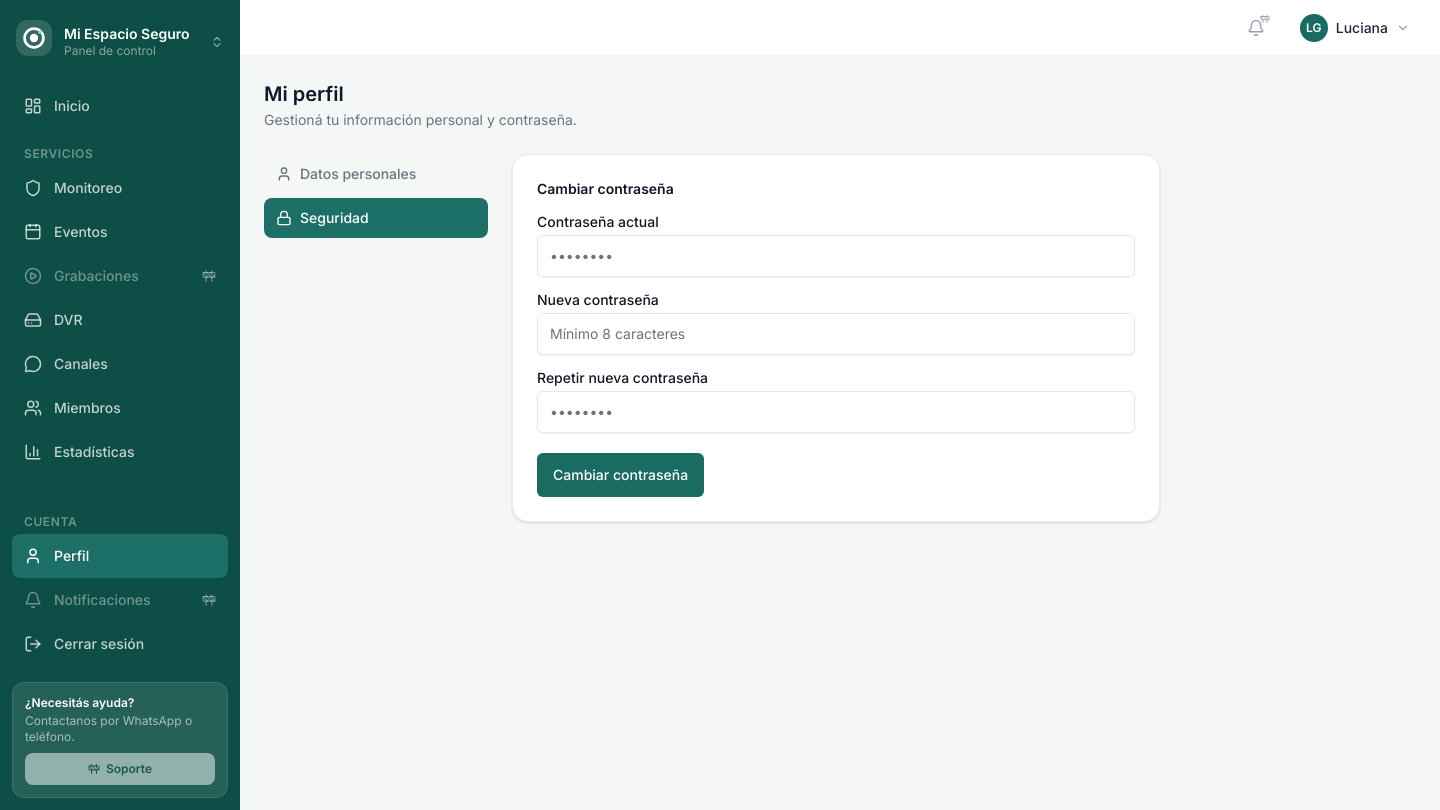
Test: ProfilePage › changes the password and stores the new token
Type "vieja12345" into the password field labelled "Contraseña actual" at [836, 256], box [537,235,1135,277]
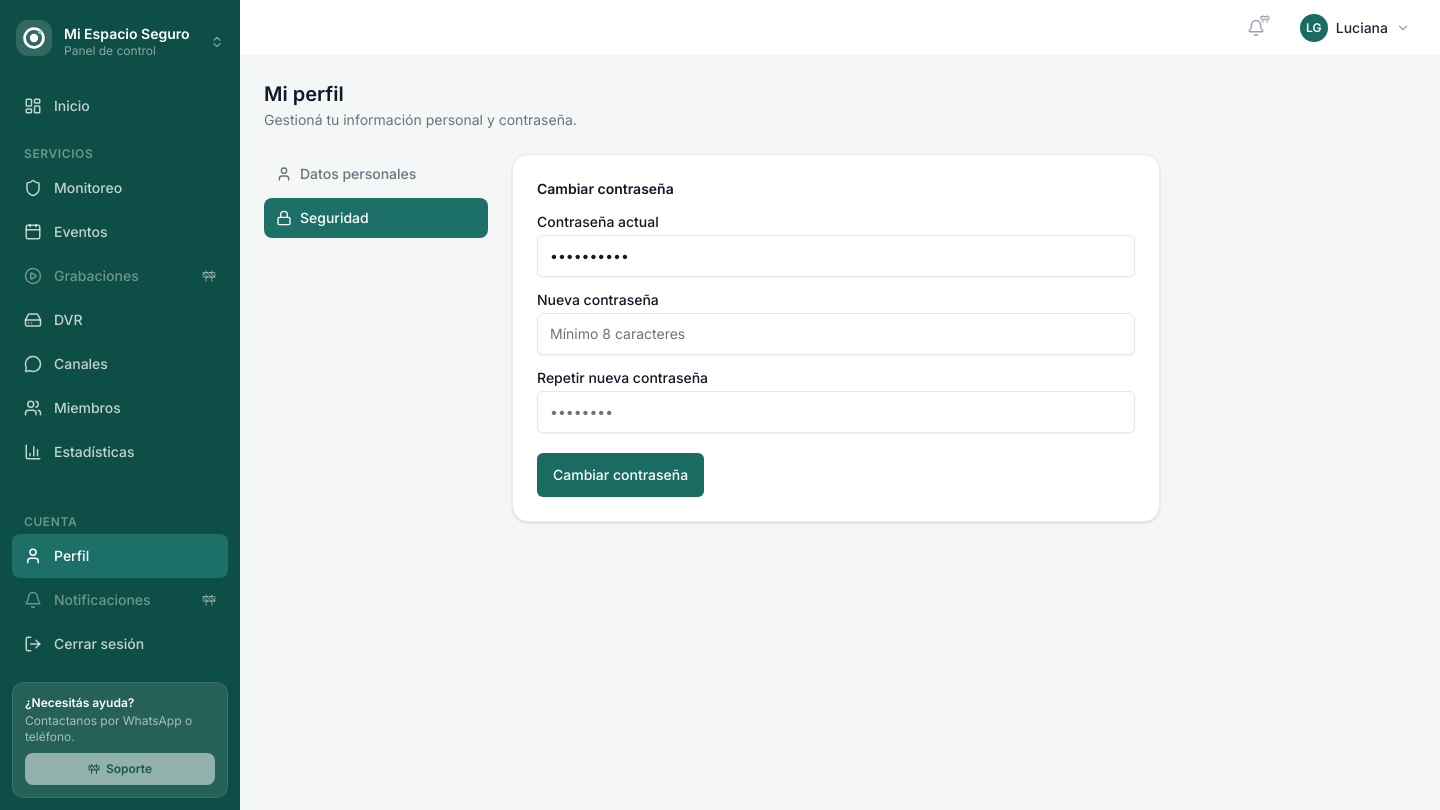
Type "nuevaClave123" into the password field labelled "Nueva contraseña" at [836, 334], box [537,313,1135,355]
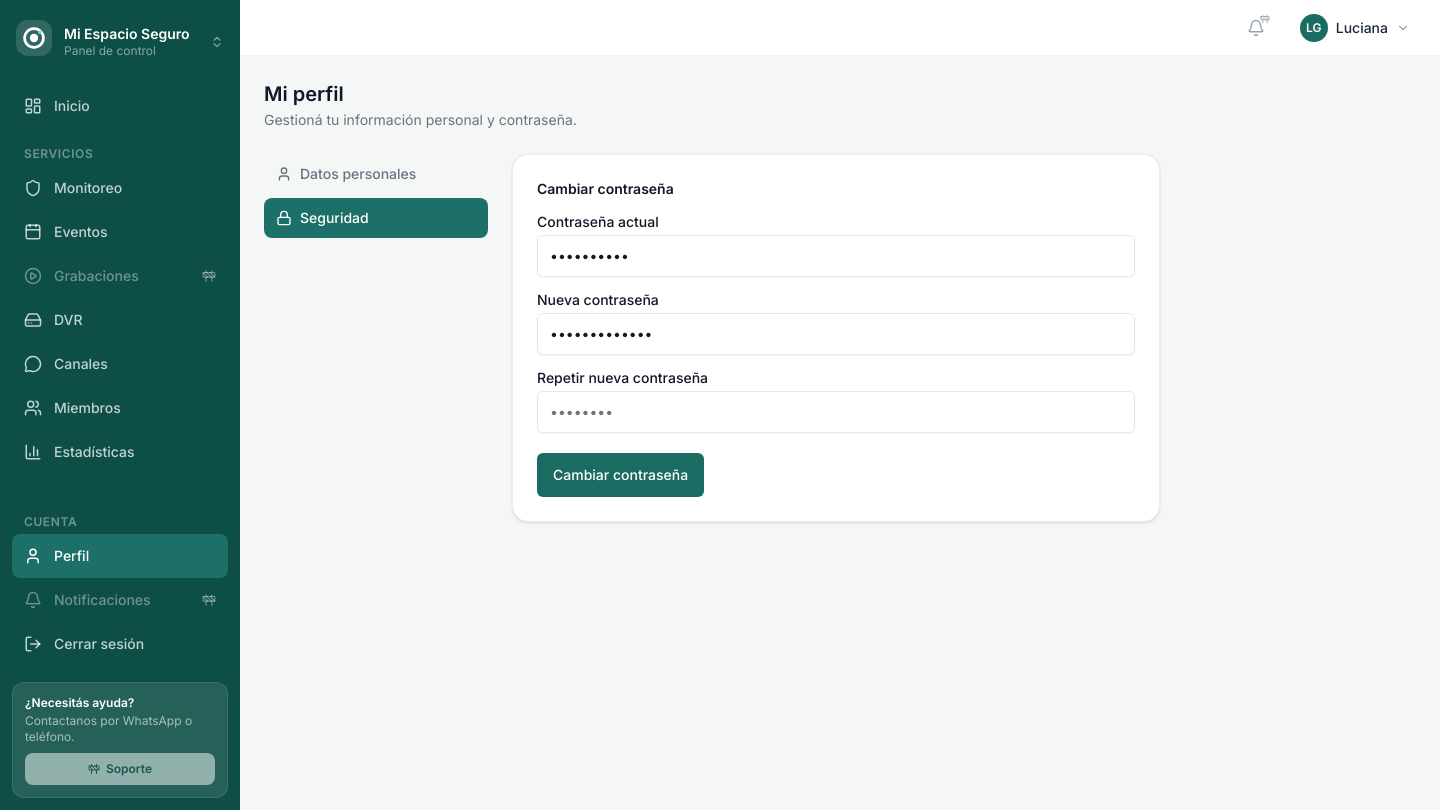
Type "nuevaClave123" into the password field labelled "Repetir nueva contraseña" at [836, 412], box [537,391,1135,433]
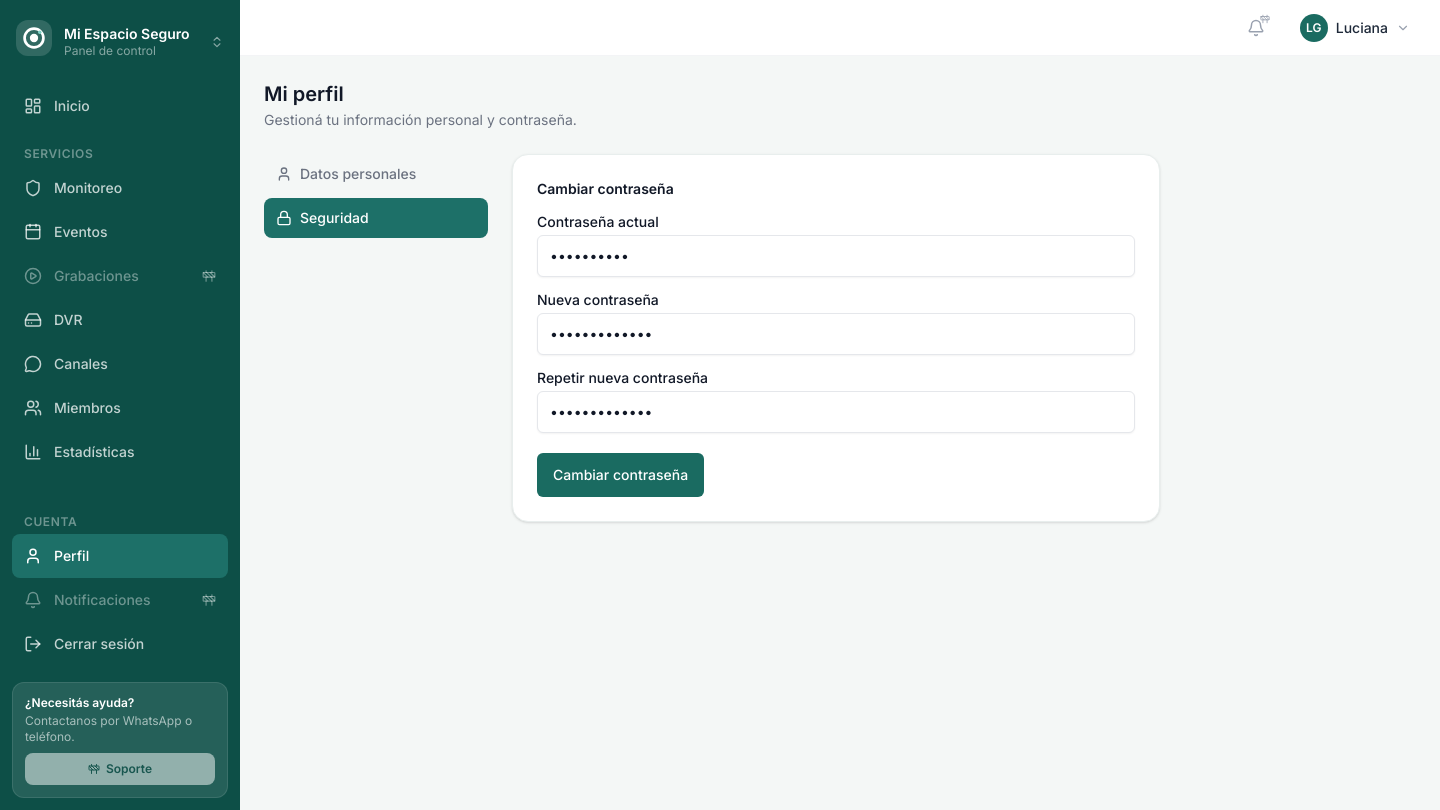
Click the button "Cambiar contraseña" at [621, 475], box [537,453,704,497]
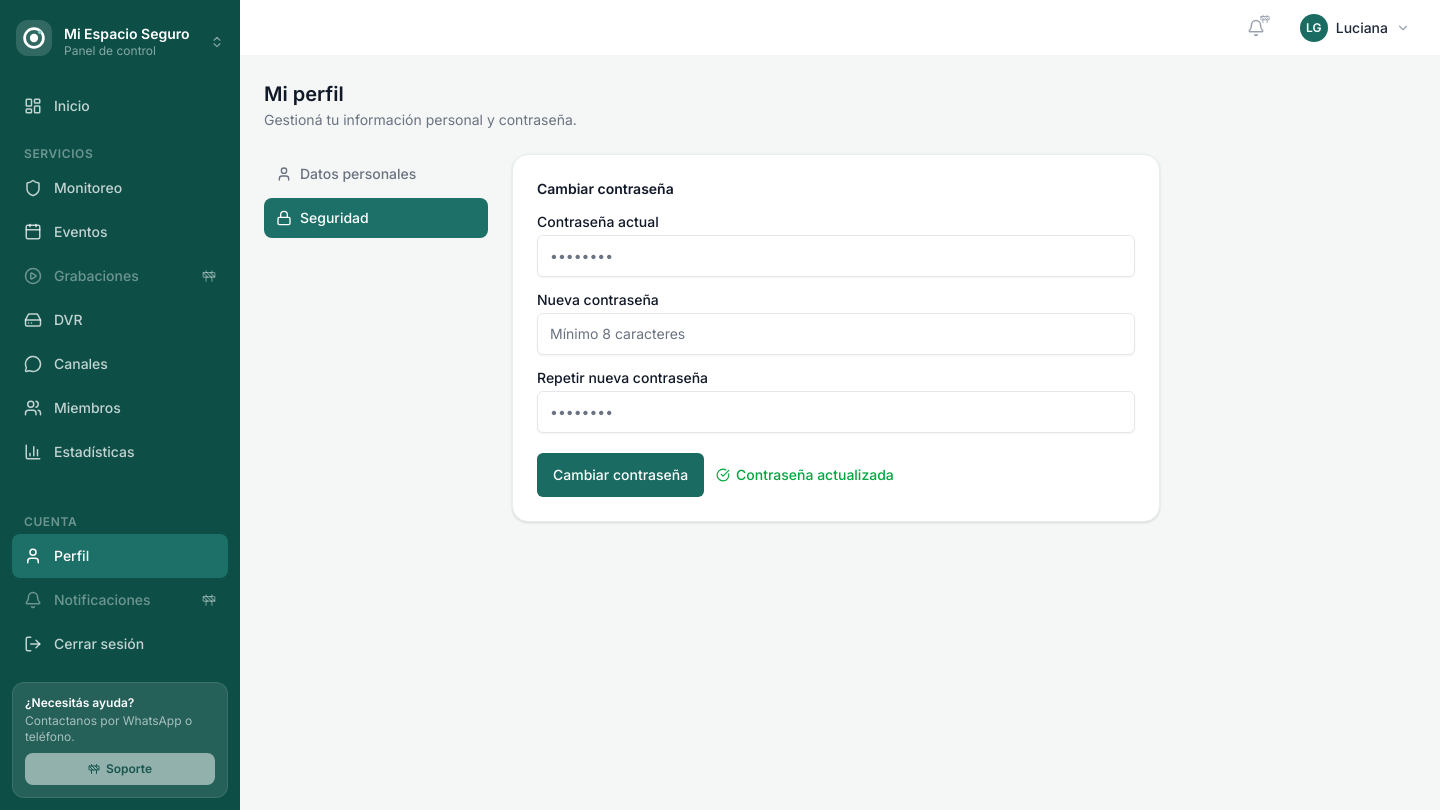
expect the text "Contraseña actualizada" is shown: met, box [716,465,894,485]
